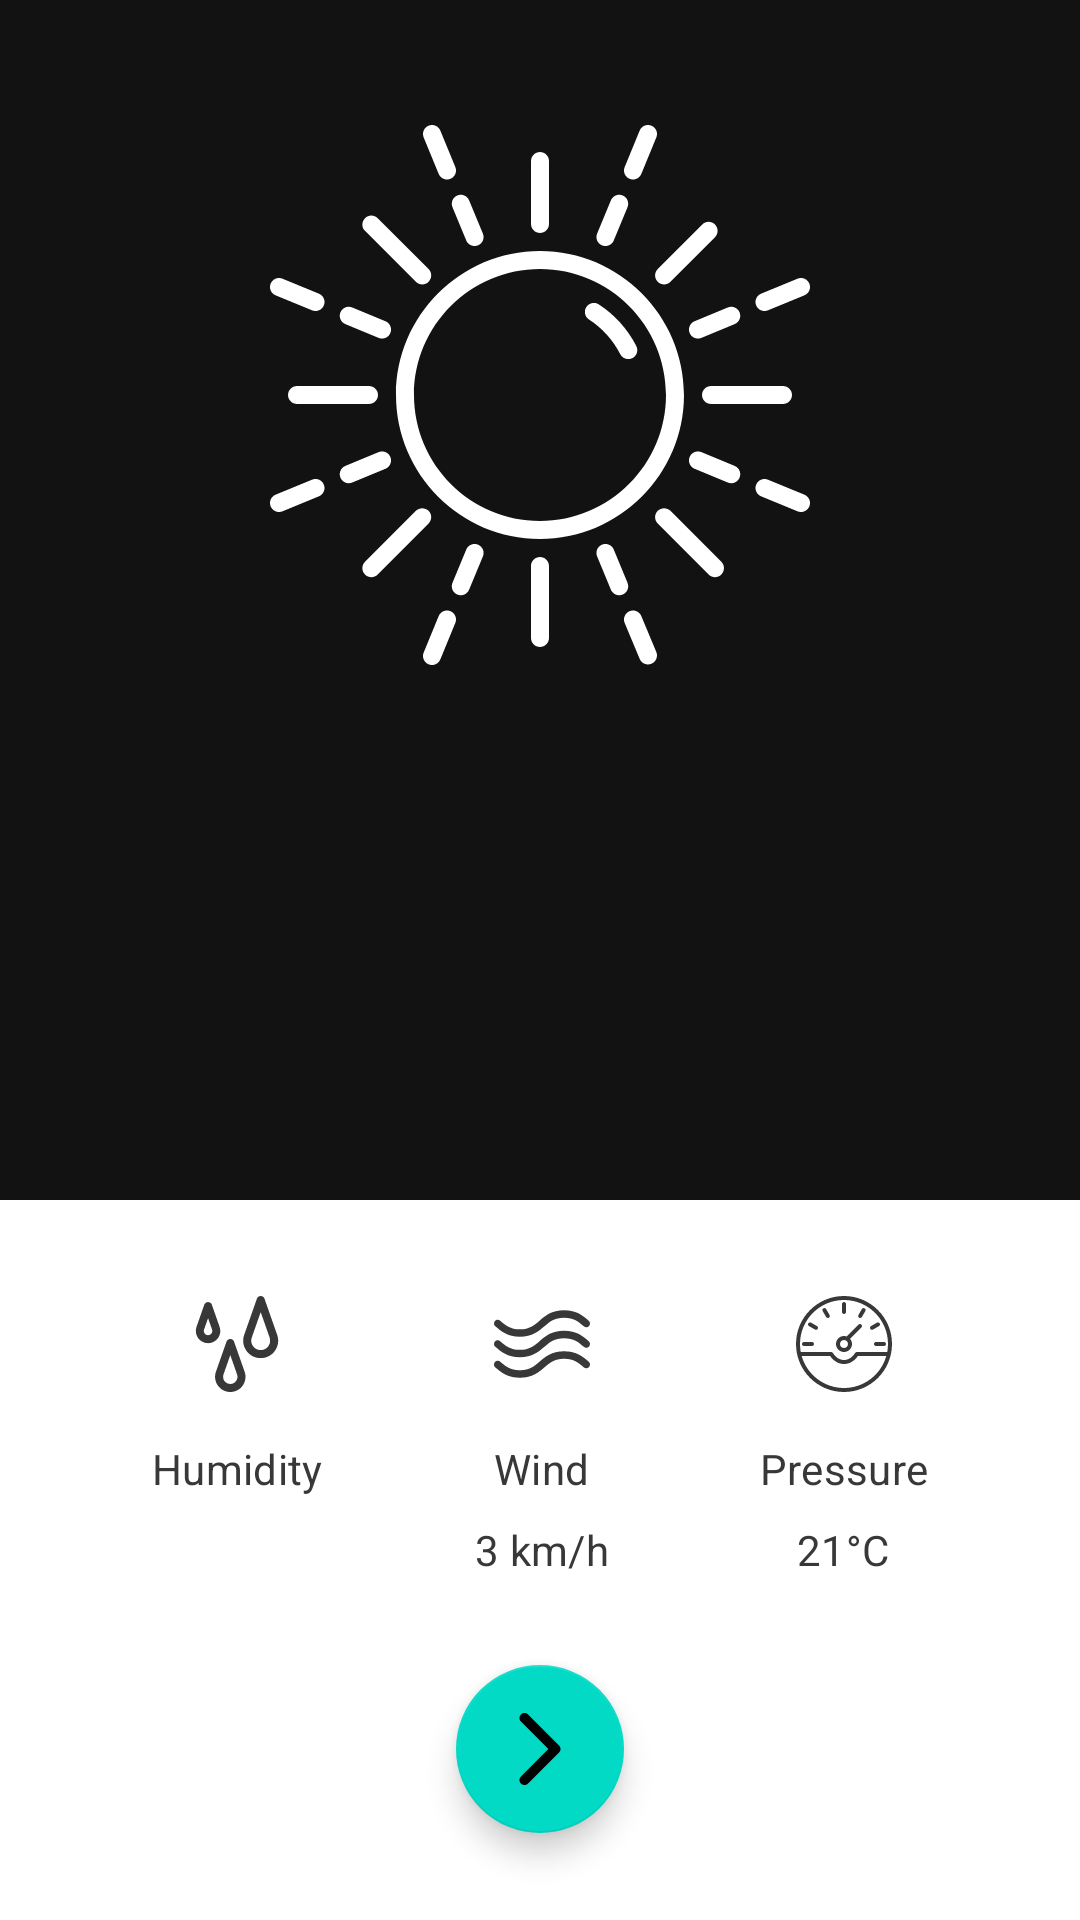

Icons on this 1080*1920 Android screen, each with its box as (x1, y1, x2, y2):
arrow: (456, 1665, 624, 1833)
gauge: (796, 1296, 892, 1392)
